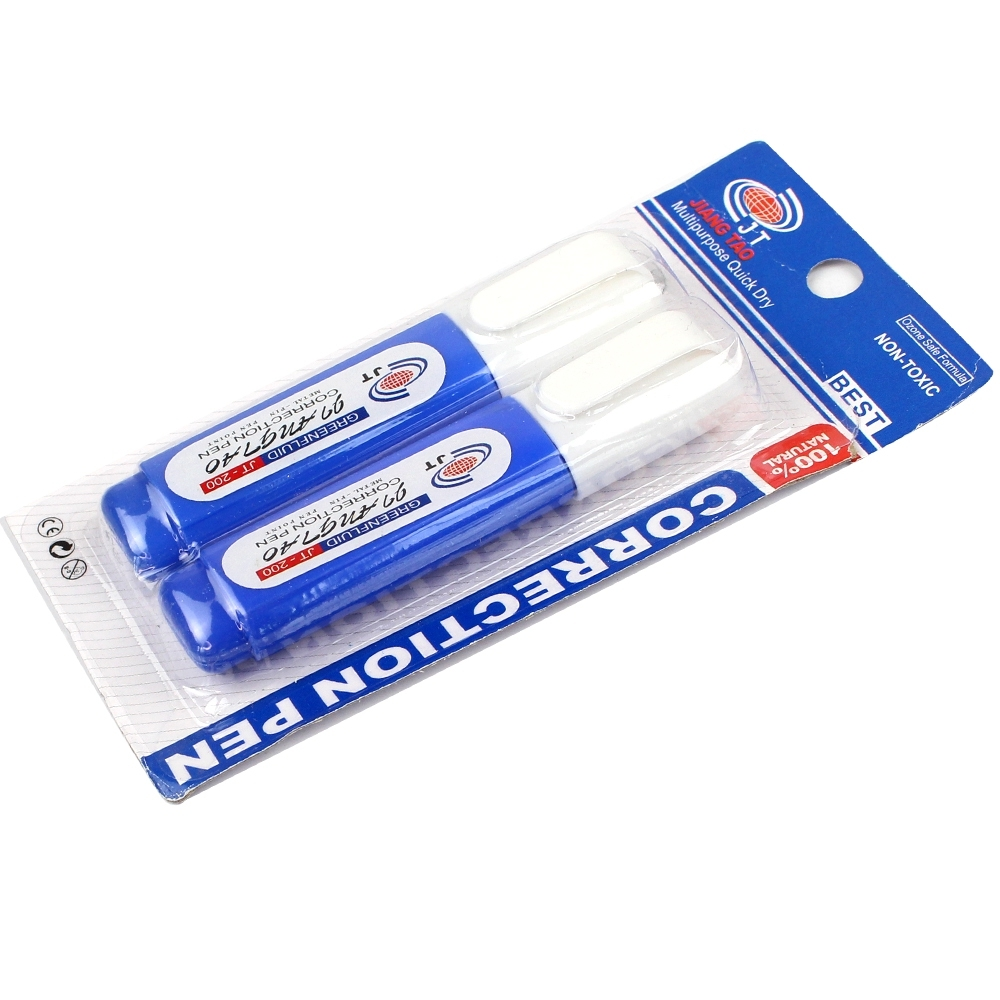Correction_fluid: (156, 304, 734, 673), (93, 232, 668, 580)
